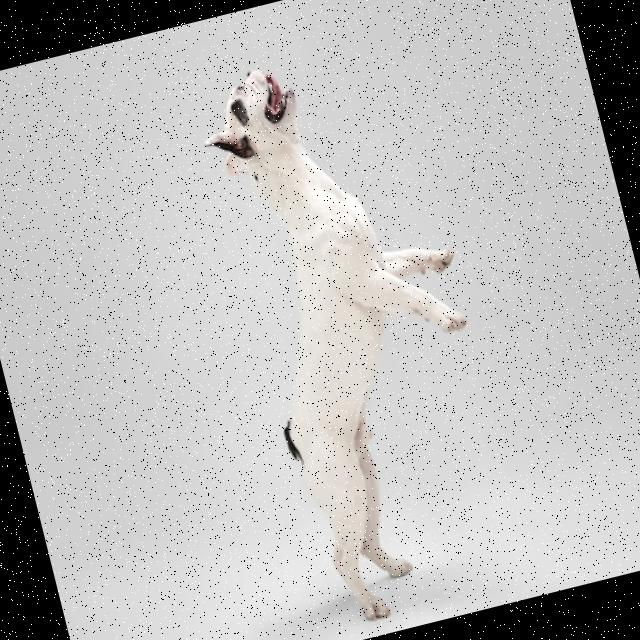Dog: (188, 31, 536, 634)
